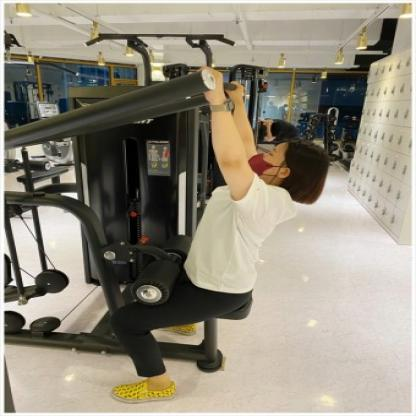Lat Pull Down: (1, 0, 336, 416)
